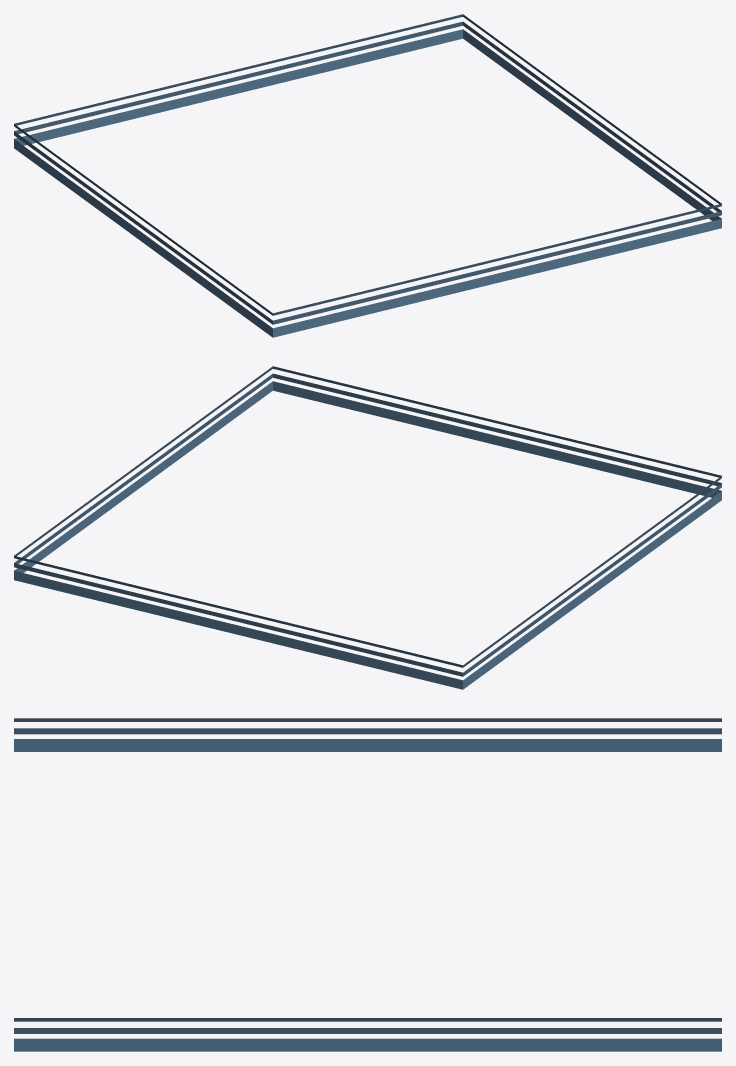
Rendered from SM_HighlightArea.fbx.
3 renders of one model, top to bottom at view 1: azimuth 30°, elevation 25°; view 2: azimuth 150°, elevation 25°; view 3: azimuth 270°, elevation 25°, orthographic. The views are drawn at different scales.
Visible parts, largest first — view 1: pCube1, pasted__pCube1, pasted__pasted__pCube1; view 2: pCube1, pasted__pCube1, pasted__pasted__pCube1; view 3: pCube1, pasted__pCube1, pasted__pasted__pCube1.
Part boxes in pixels (box(x1,y1,x2,y2)): pCube1: box(14, 29, 721, 337); pasted__pCube1: box(14, 21, 721, 324); pasted__pasted__pCube1: box(14, 14, 721, 315); pCube1: box(14, 381, 721, 689); pasted__pCube1: box(14, 373, 721, 676); pasted__pasted__pCube1: box(14, 366, 721, 667); pCube1: box(14, 739, 721, 1051); pasted__pCube1: box(14, 728, 721, 1033); pasted__pasted__pCube1: box(14, 718, 721, 1021).
Size of the model in its own units: 16.06 by 0.8372 by 16.04.
